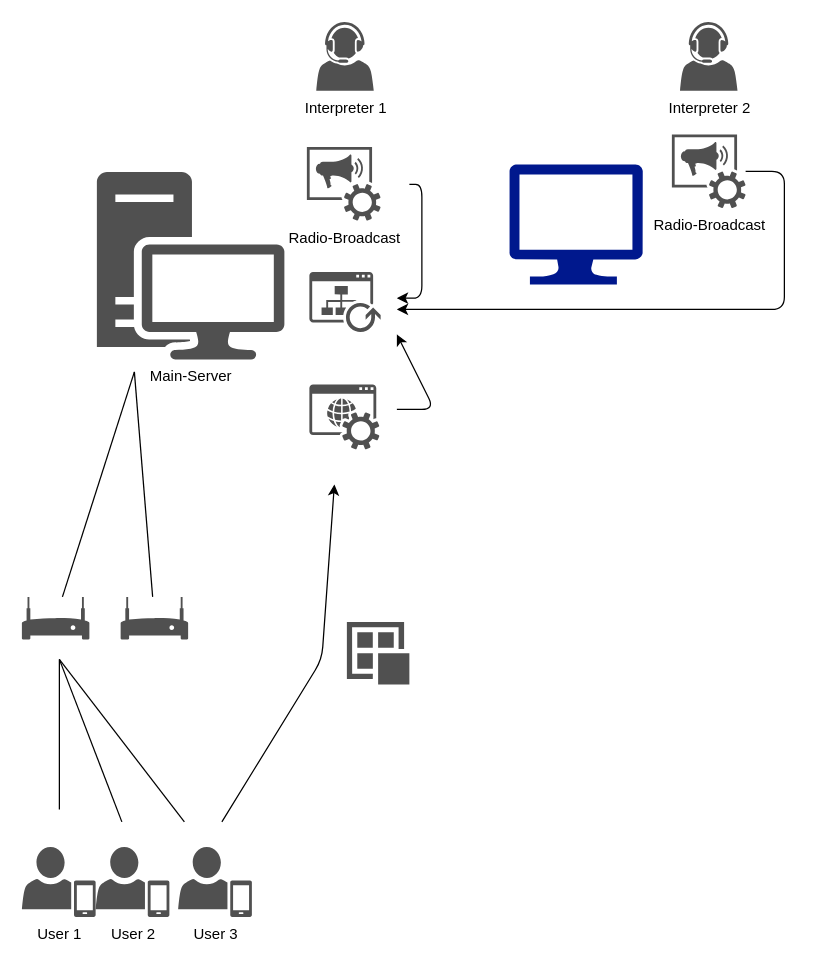
Some shapes in this 816 by 964 pixel diagram are drawn without their labels. The shapes that lost their labels are listed below. From the top down, each one's centre as x and y in pixels, then its label:
(x=575, y=224): Interpreter-PC
(x=344, y=301): Web-Radio- Service
(x=344, y=416): Webseite for "Radio-App"
(x=377, y=652): QR-Code
